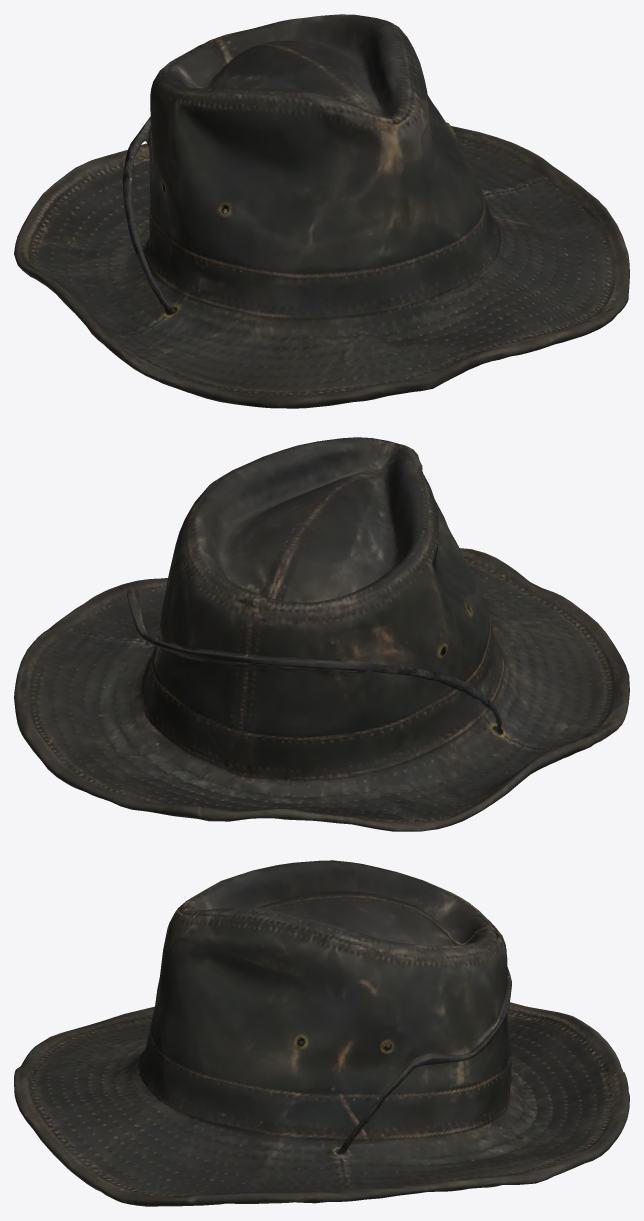
Rendered from DPC_Handmade_Hat_Brown.glb.
3 renders of one model, top to bottom at view 1: azimuth 30°, elevation 25°; view 2: azimuth 150°, elevation 25°; view 3: azimuth 270°, elevation 25°, orthographic. The views are drawn at different scales.
Visible parts, largest first — view 1: DPC_Handmade_Hat_Brown; view 2: DPC_Handmade_Hat_Brown; view 3: DPC_Handmade_Hat_Brown.
Boxes of the visible parts, <box> form: DPC_Handmade_Hat_Brown: <box>14,14,629,408</box>; DPC_Handmade_Hat_Brown: <box>14,437,629,831</box>; DPC_Handmade_Hat_Brown: <box>14,860,629,1206</box>.
Size of the model in its own units: 0.3184 by 0.1432 by 0.3539.
Materials: 1 (1 with a texture image).
